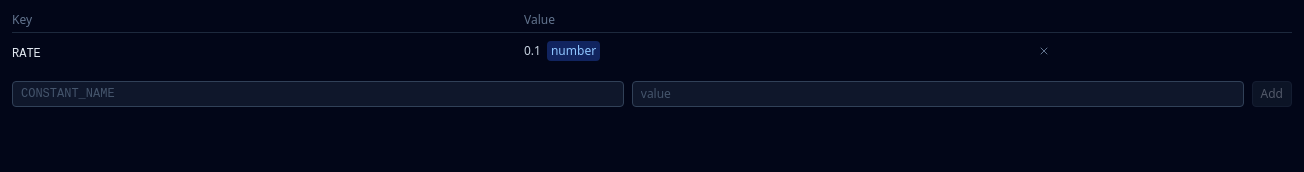
Scenario: ConstantsSection › clicking value display enters edit mode
What coordinates should you click on to do the following:
click the button with test id "constant-value-display-RATE"
I would click on:
 (532, 51)
Its box is [524,43,541,59].
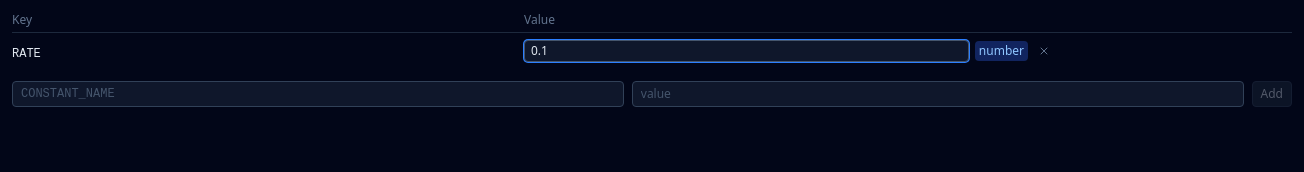
Expected: the field with test id "constant-value-input-RATE" is shown, [524,40,969,62]
